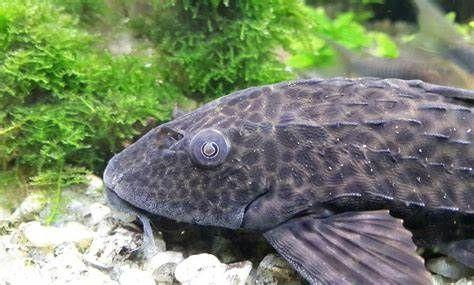Janitor Fish: (107, 76, 474, 285)
